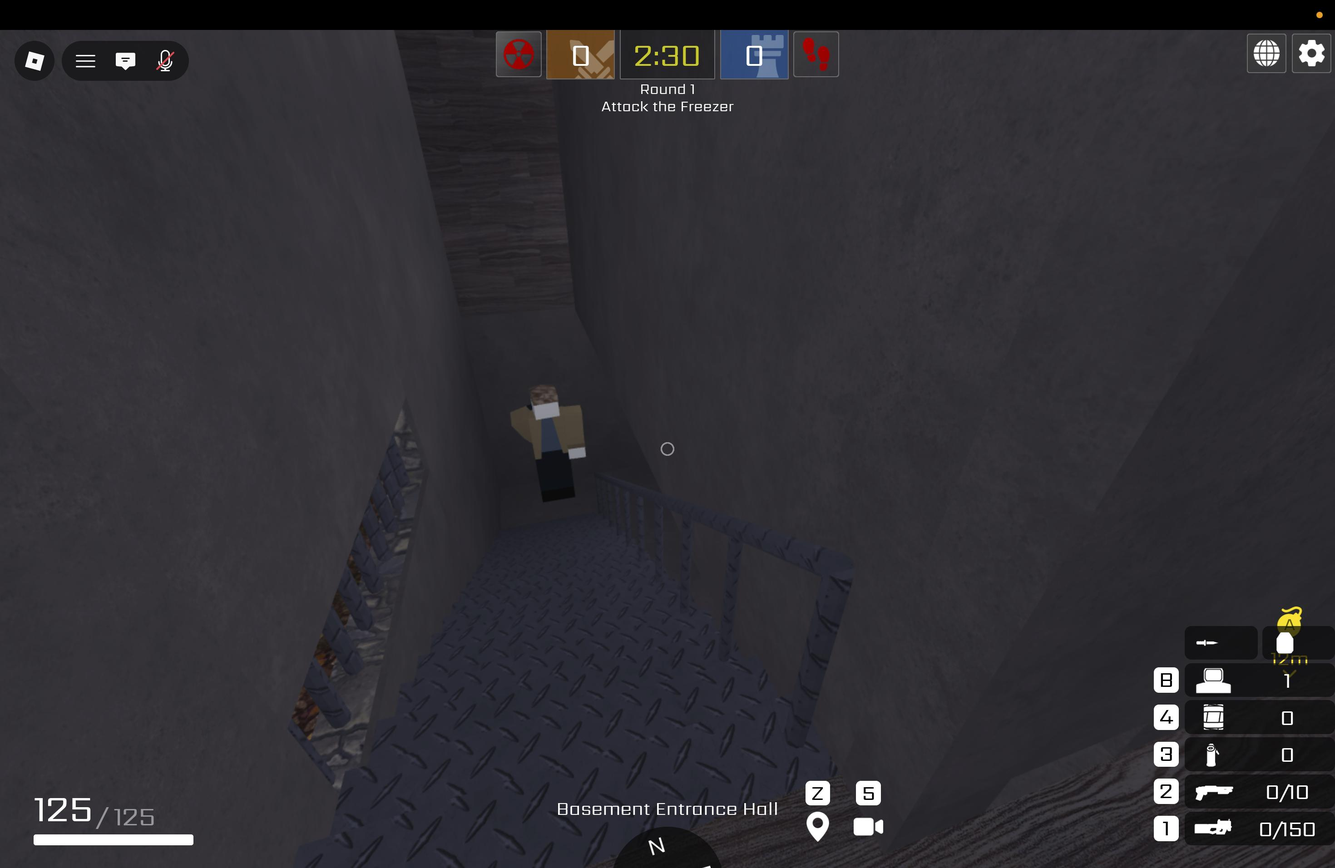enemy: (507, 377, 590, 508)
